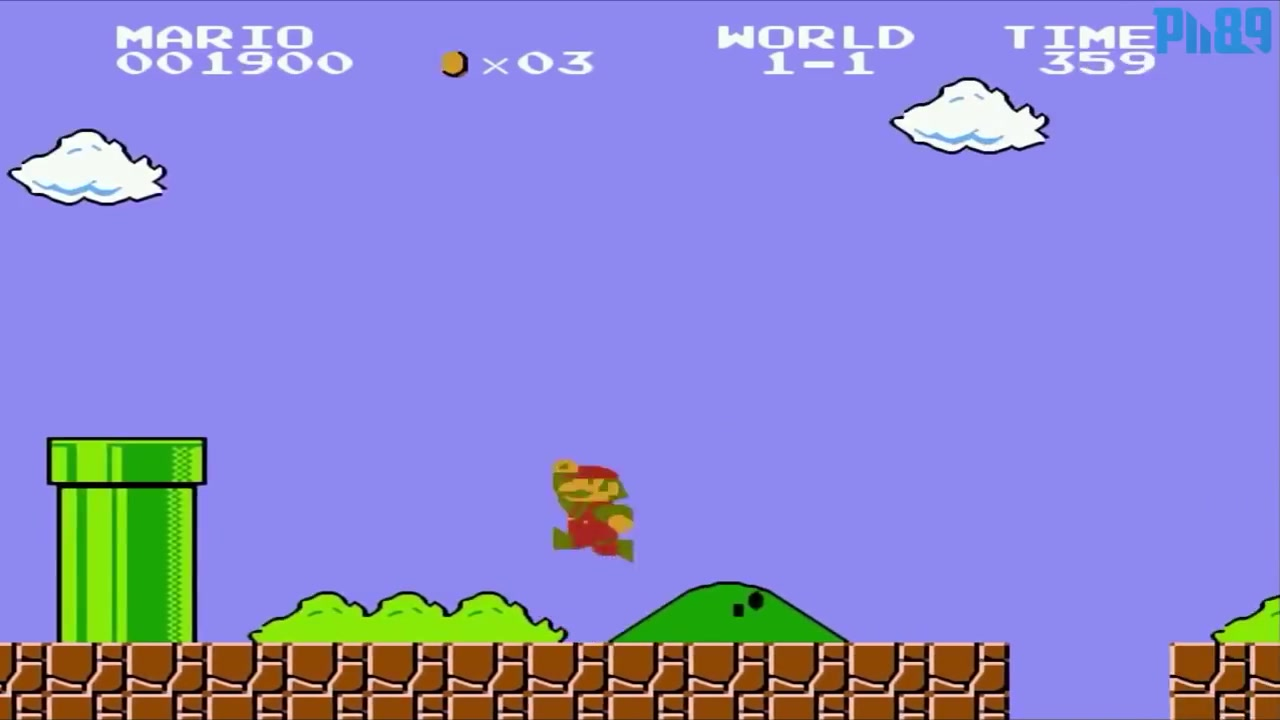mario: (541, 453, 642, 565)
